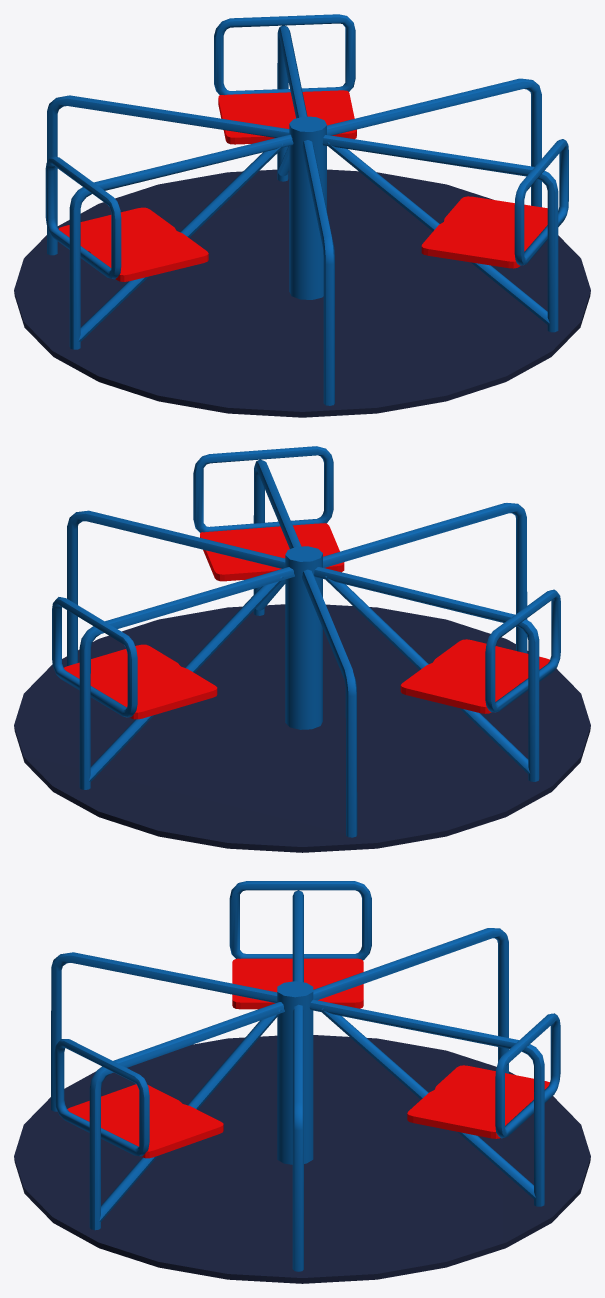
Rendered from SM_Swings_02.fbx.
3 renders of one model, top to bottom at view 1: azimuth 30°, elevation 25°; view 2: azimuth 150°, elevation 25°; view 3: azimuth 270°, elevation 25°, orthographic.
Visible parts, largest first — view 1: SM_Swings_02; view 2: SM_Swings_02; view 3: SM_Swings_02.
Part boxes in pixels (left/top/right/bottom): SM_Swings_02: left=14, top=14, right=590, bottom=417; SM_Swings_02: left=14, top=446, right=590, bottom=852; SM_Swings_02: left=14, top=881, right=590, bottom=1283.
Size of the model in its own units: 247 by 97.28 by 247.
1 material, 1 textured.
